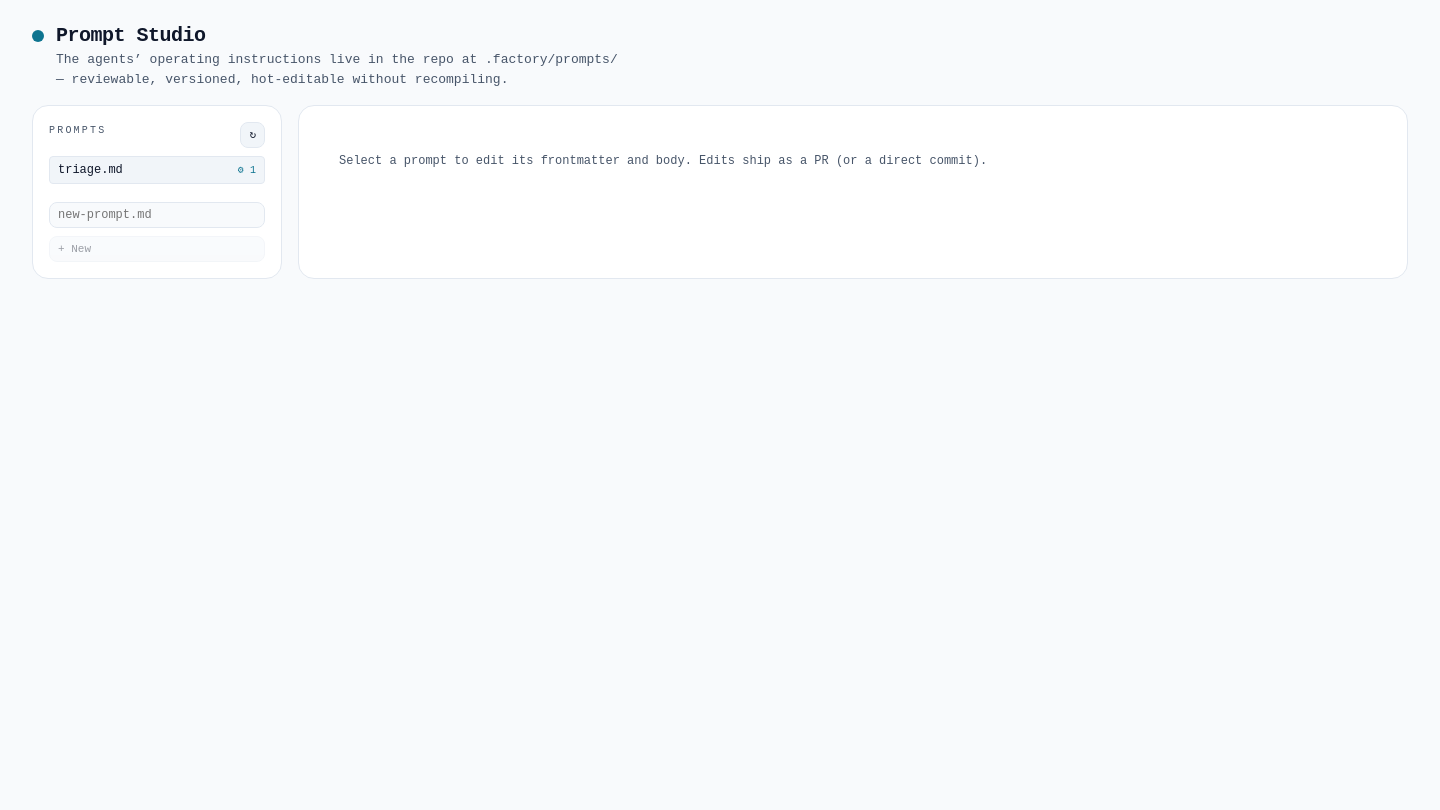
PromptStudio › editing the body clears an error and enables Save
Click the text "triage.md": (90, 170) [58,163,123,177]
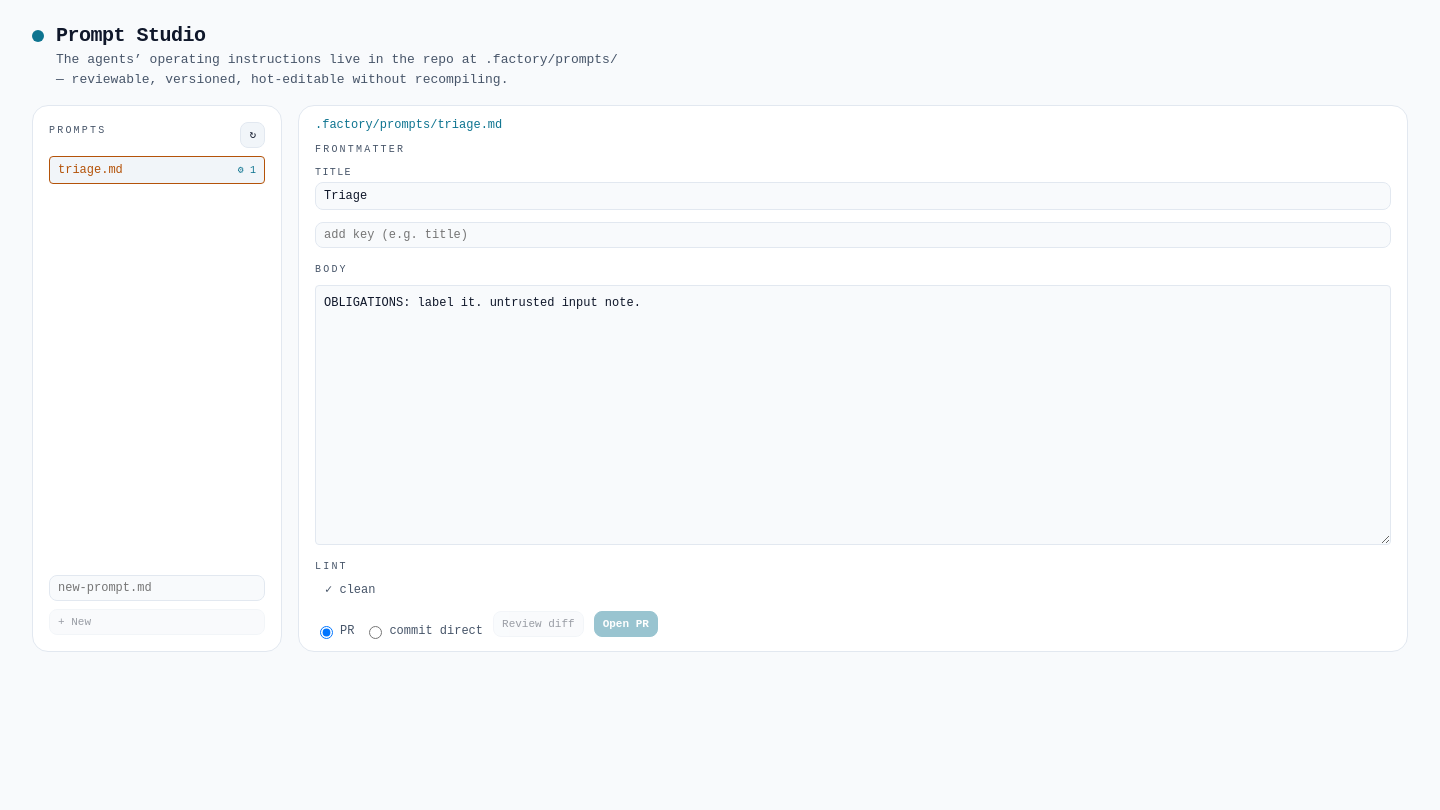
Check: the text ".factory/prompts/triage.md" is shown, box [315,118,502,132]
Replace the text in the text box with "OBLIGATIONS: label it and comment. untrusted input note.": (853, 415) [315,285,1391,545]
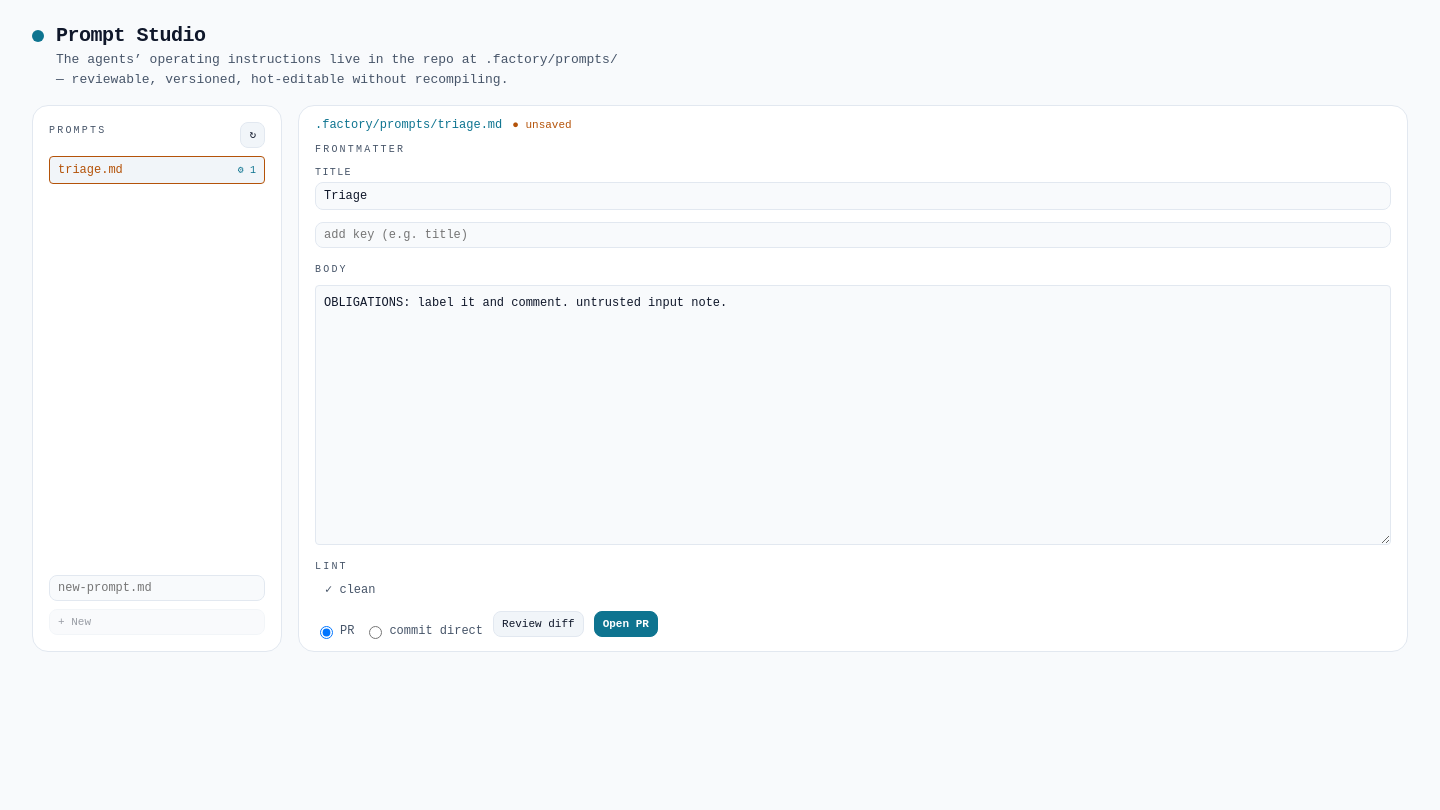
Check: the button "Open PR" is enabled, box [594,611,658,637]
